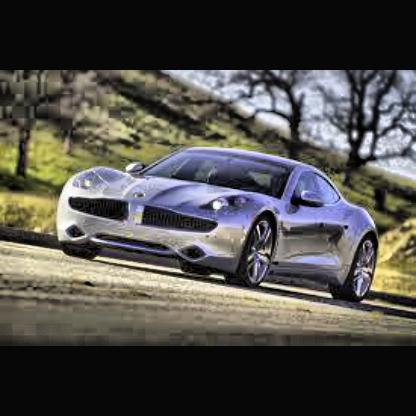Fisker Karma Sedan 2012: (57, 146, 383, 309)
